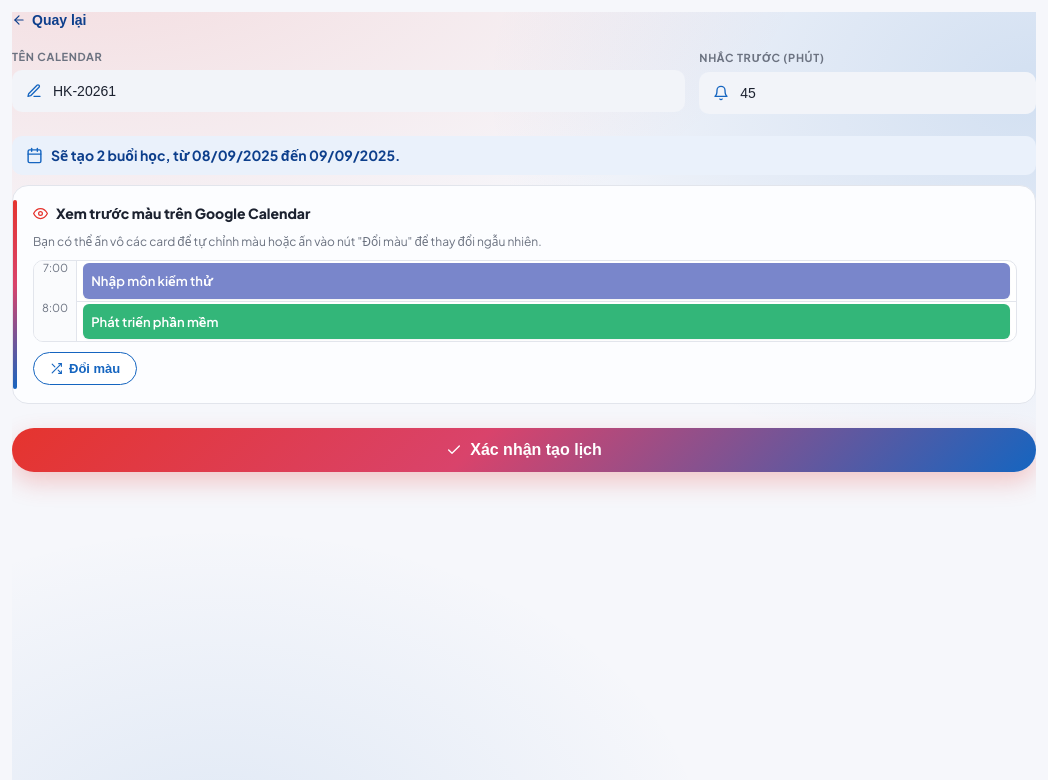
Scenario: CalendarConfigStep › hiển thị lỗi thân thiện khi đăng nhập Google thất bại
Step 1. Click the button "Xác nhận tạo lịch" → (524, 450), box [12,428,1036,472]
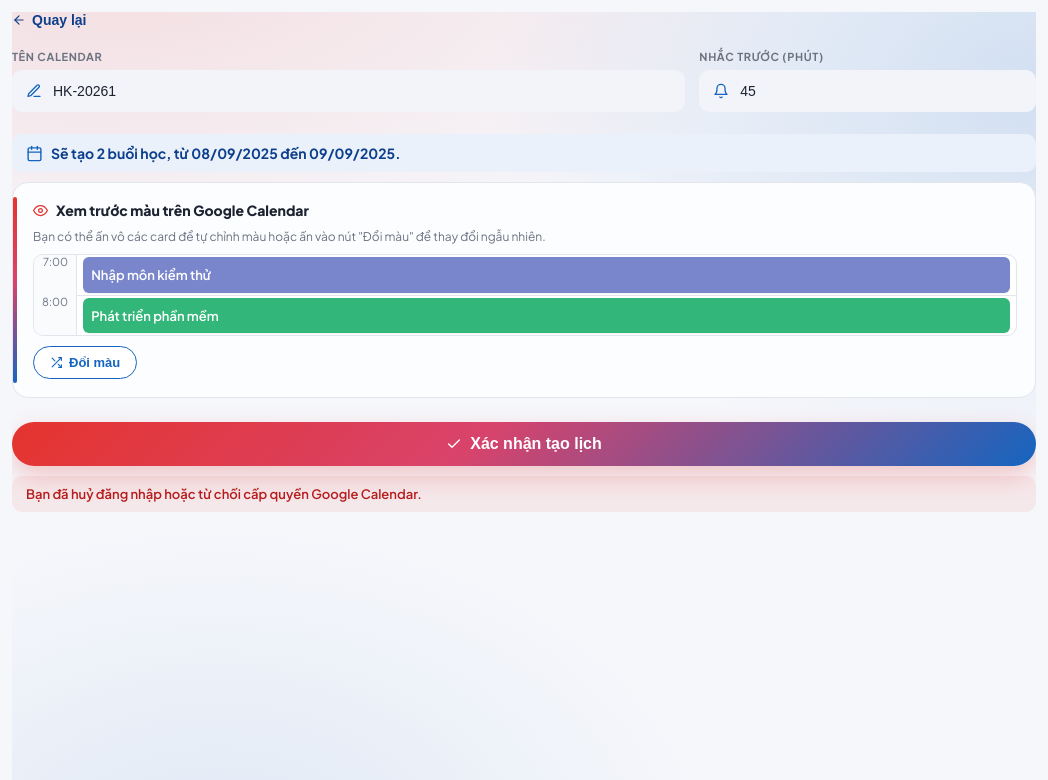
Check: the message shows "huỷ đăng nhập", box [26,486,422,502]
